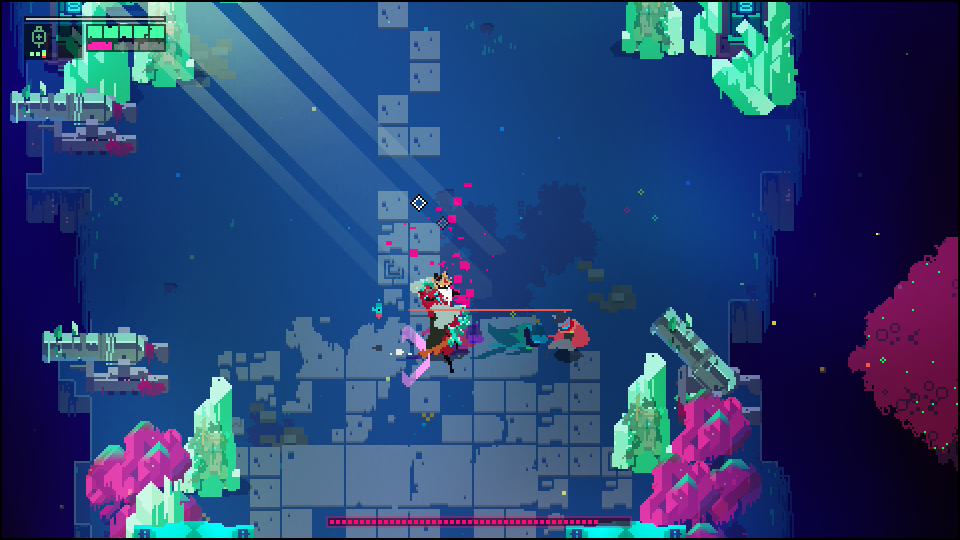hanged_man: (409, 274, 474, 369)
player: (539, 312, 590, 363)
